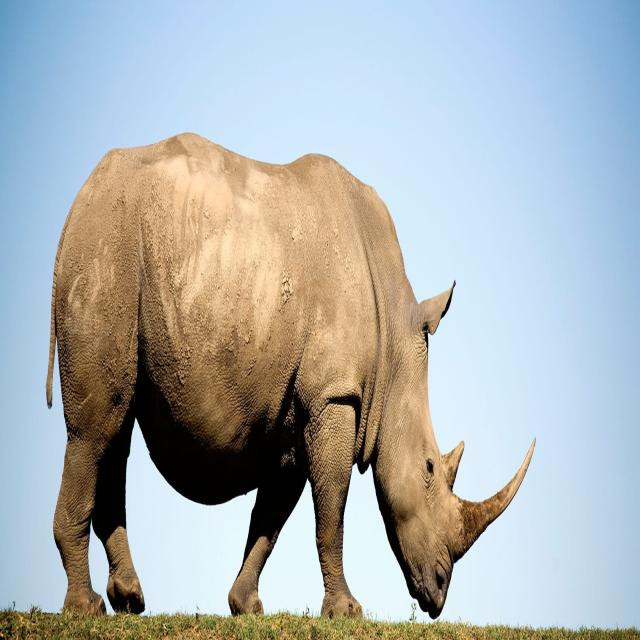rhinoceros: (46, 134, 535, 618)
